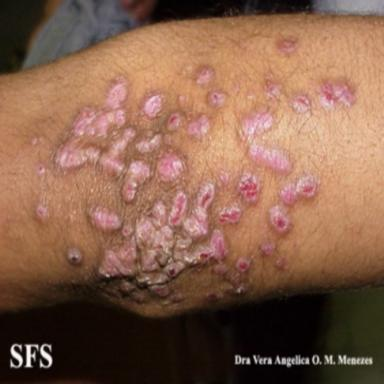Epidermolysis-Bullosa-Pruriginosa: (54, 81, 229, 304), (241, 109, 293, 172), (280, 174, 319, 206), (320, 83, 355, 108), (270, 204, 291, 233), (238, 173, 259, 202), (143, 94, 163, 119), (218, 203, 241, 223), (277, 36, 299, 56), (290, 94, 311, 113), (196, 67, 214, 84), (208, 90, 226, 107), (235, 255, 252, 272), (67, 247, 83, 265), (266, 82, 281, 98), (260, 241, 275, 256), (36, 204, 47, 221), (220, 171, 229, 185), (37, 163, 45, 175)
